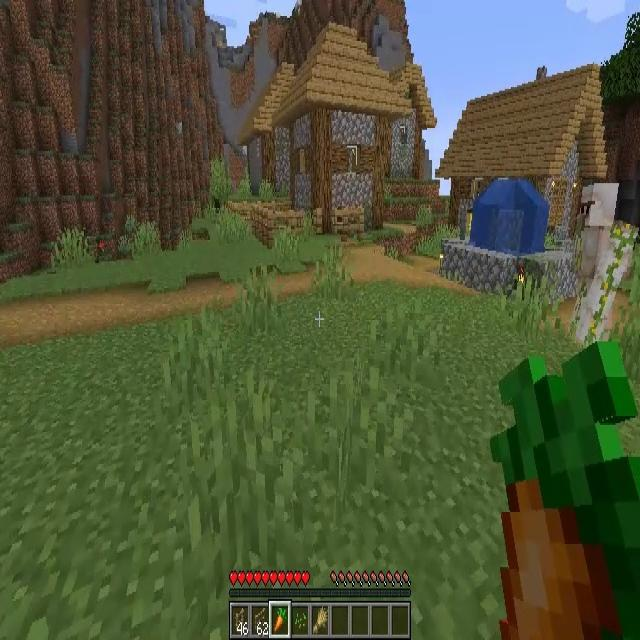people: (572, 185, 640, 346)
